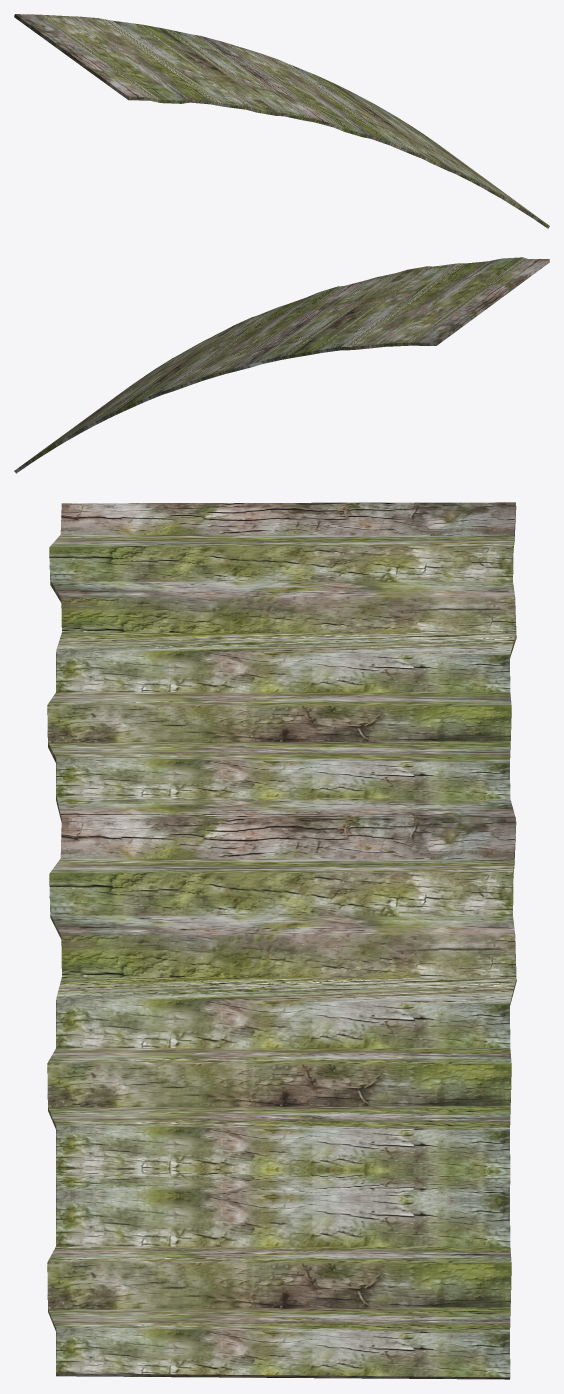
File: RAMP-038.fbx
3 views of the same model, one above another, from view 1: azimuth 30°, elevation 25°; view 2: azimuth 150°, elevation 25°; view 3: azimuth 270°, elevation 25° (orthographic). The views are drawn at different scales.
Parts seen in each view (by area): view 1: Ramp_038; view 2: Ramp_038; view 3: Ramp_038.
Boxes of the visible parts, box(x1,y1,x2,y2) form: Ramp_038: box(14, 14, 549, 228); Ramp_038: box(14, 257, 549, 473); Ramp_038: box(47, 502, 516, 1379).
Size of the model in its own units: 429 by 227 by 206.
